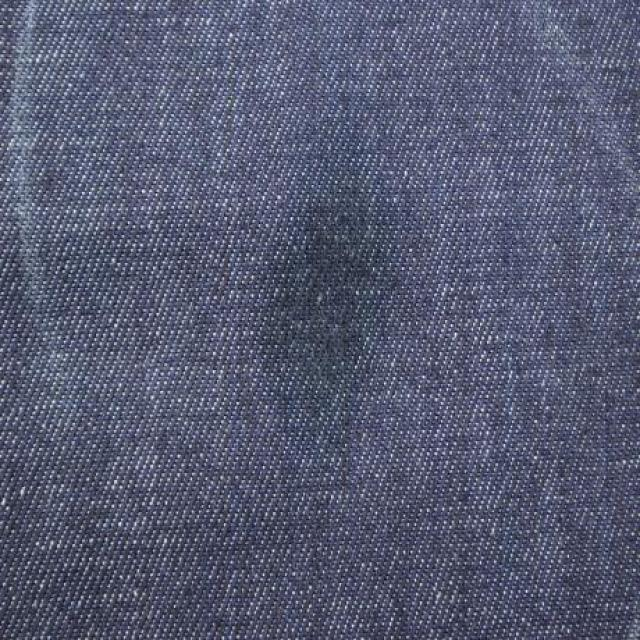Hole: (222, 170, 418, 468)
